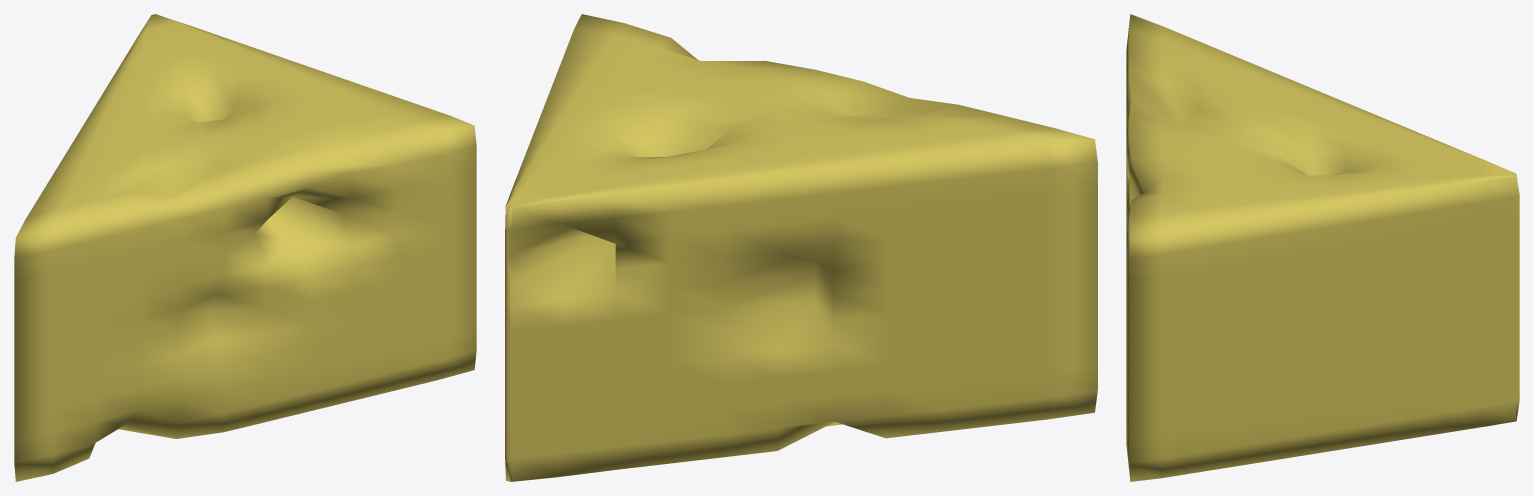
File: LBSR_Cheese_block.fbx
3 views of the same model, side by side, from view 1: azimuth 30°, elevation 25°; view 2: azimuth 150°, elevation 25°; view 3: azimuth 270°, elevation 25° (orthographic). The views are drawn at different scales.
Parts seen in each view (by area): view 1: Cheese Block; view 2: Cheese Block; view 3: Cheese Block.
Part boxes in pixels (box(x1,y1,x2,y2)): Cheese Block: box(14, 14, 476, 481); Cheese Block: box(505, 14, 1097, 481); Cheese Block: box(1126, 14, 1519, 481).
Size of the model in its own units: 2.16 by 1.12 by 1.6.
